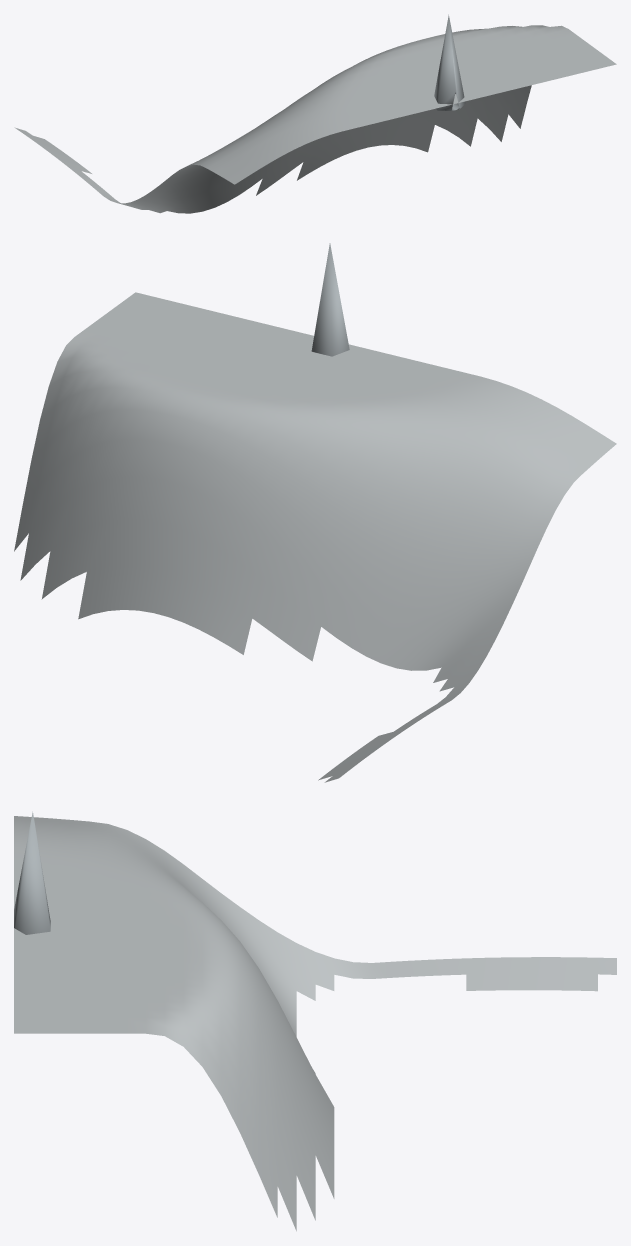
The model's file is alpine-11-2.glb.
The picture shows the model from 3 angles, top to bottom: view 1: azimuth 30°, elevation 25°; view 2: azimuth 150°, elevation 25°; view 3: azimuth 270°, elevation 25°; orthographic projection. The views are drawn at different scales.
Parts seen in each view (by area): view 1: alpine-11-2; view 2: alpine-11-2; view 3: alpine-11-2.
Boxes of the visible parts, x1,y1,x2,y2 form: alpine-11-2: [14, 14, 616, 213]; alpine-11-2: [14, 243, 616, 782]; alpine-11-2: [14, 811, 616, 1231].
Bounding box in the file's own units: 256 × 154 × 256.
2 materials, 2 textured.
